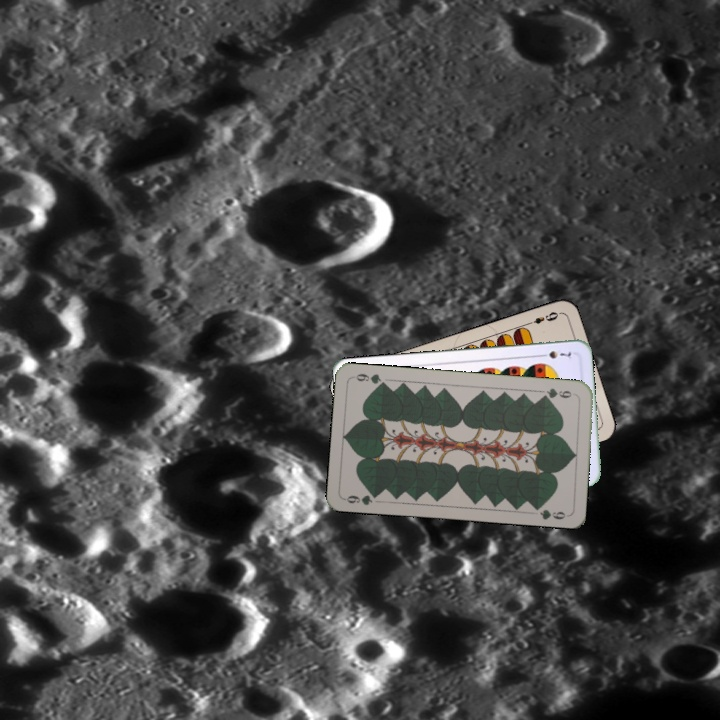E9: (523, 307, 561, 327)
G9: (341, 489, 382, 508), (538, 384, 578, 401)
S7: (535, 347, 574, 361)
